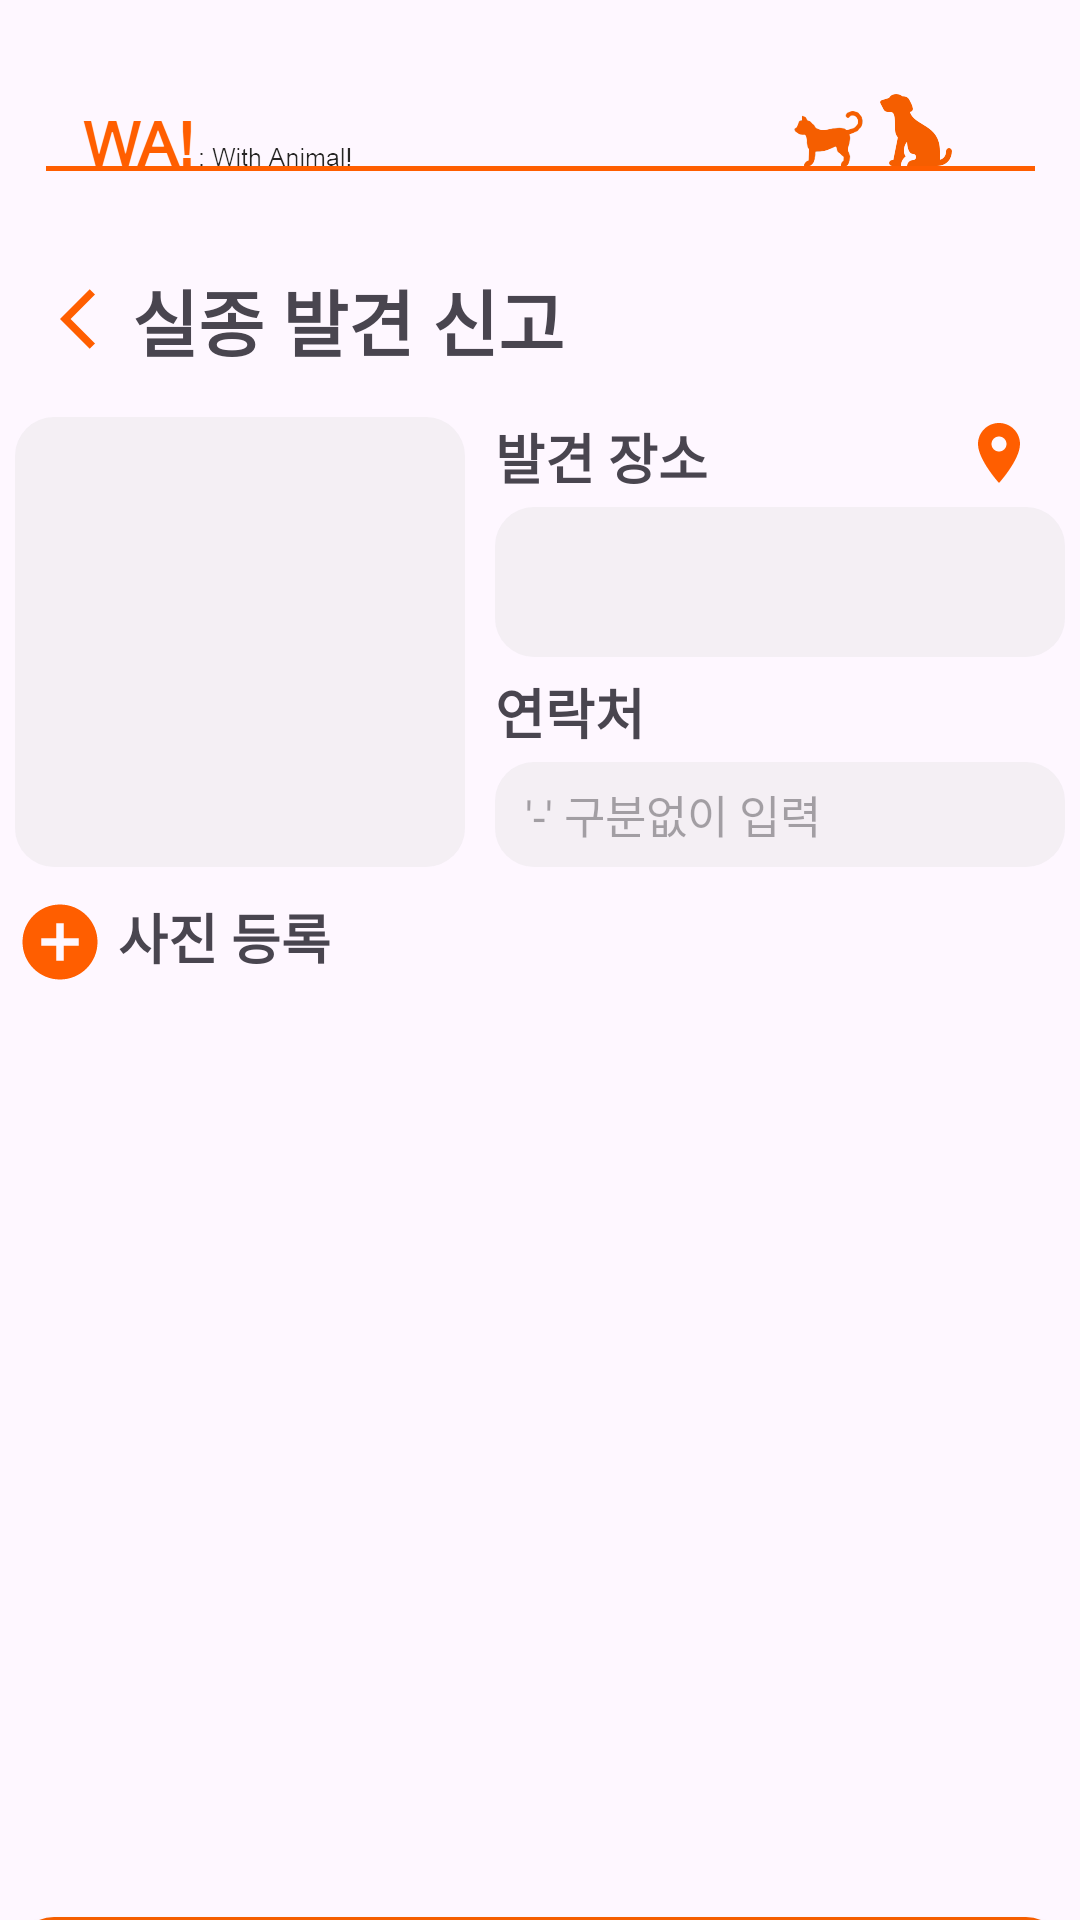

Named icons in this screenshot (1080*1920) and their centers, (x,y):
add circle: (60,942)
arrow back: (77,319)
place: (999,453)
